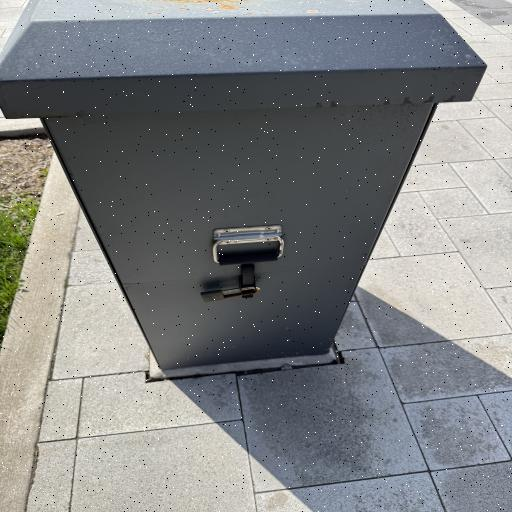Electrical Box: (0, 1, 487, 372)
